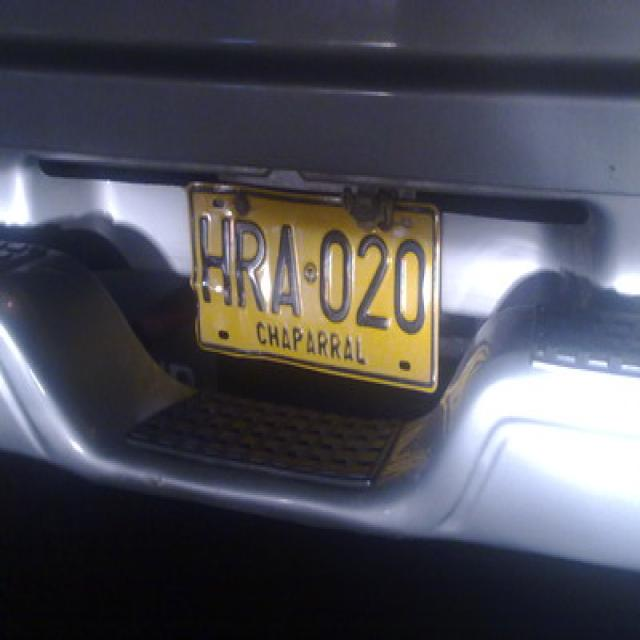placa_carro: (188, 181, 440, 397)
